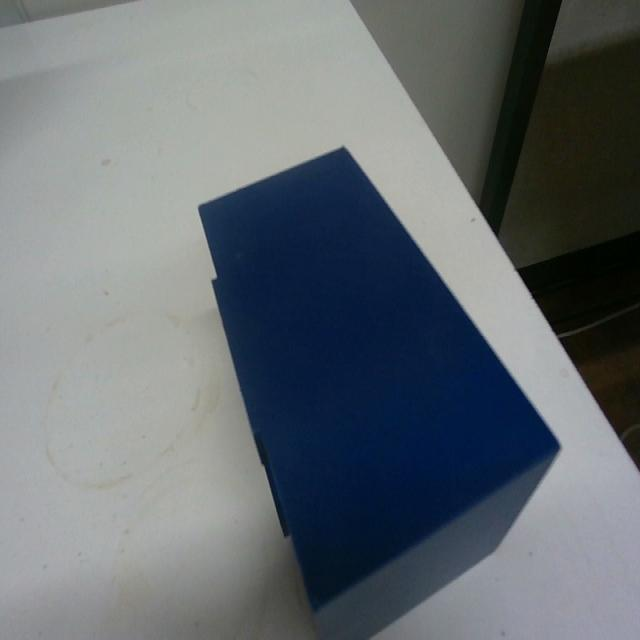Blue Cuboid: (195, 141, 562, 635)
